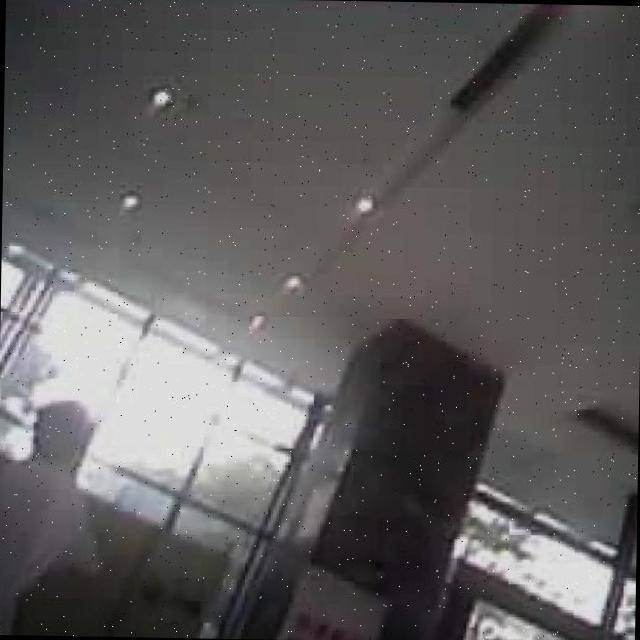person: (0, 401, 94, 636)
